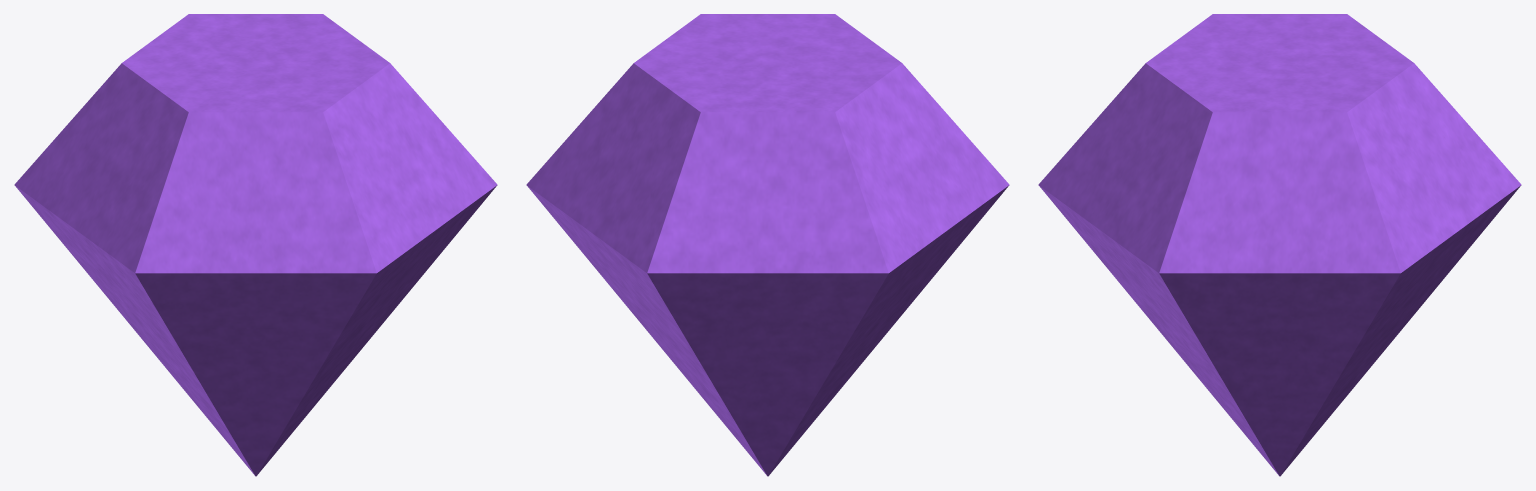
Rendered from gem.fbx.
3 renders of one model, left to right at view 1: azimuth 30°, elevation 25°; view 2: azimuth 150°, elevation 25°; view 3: azimuth 270°, elevation 25°, orthographic.
Parts seen in each view (by area): view 1: Gem; view 2: Gem; view 3: Gem.
Boxes of the visible parts, bbox=[...] form: Gem: bbox=[14, 14, 497, 476]; Gem: bbox=[526, 14, 1009, 476]; Gem: bbox=[1038, 14, 1521, 476].
Size of the model in its own units: 3.12 by 3.4 by 3.6.
Materials: 1 (1 with a texture image).
